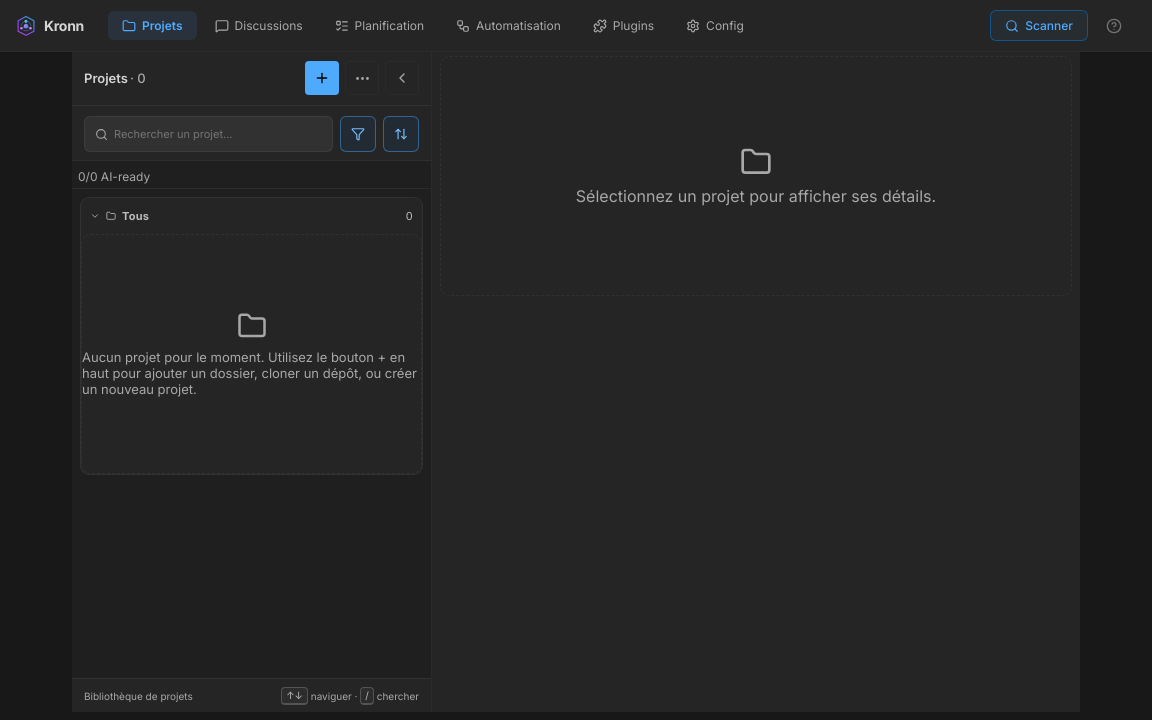
Test: Dashboard — Ctrl+Enter keyboard shortcuts › bootstrap and clone forms open via new project button
Click the button named "Ajouter un projet" at x=322, y=78, box [305,61,339,95]
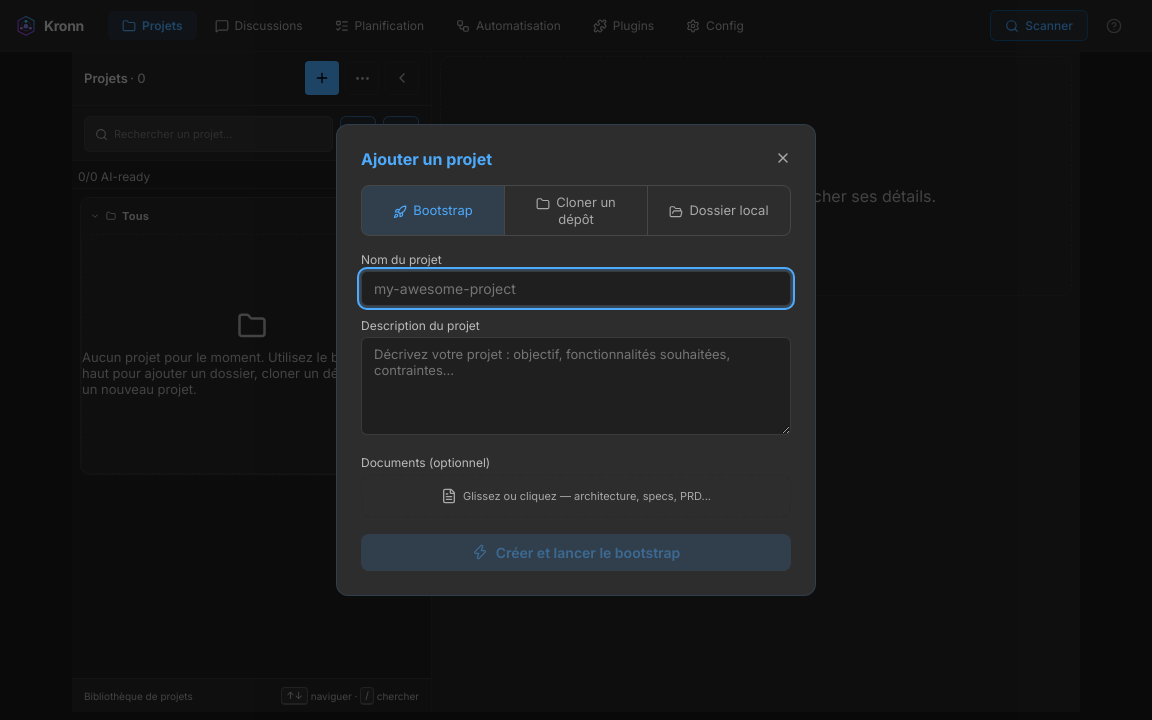
Expected: the text "Bootstrap" is shown, [362,186,504,235]
Expected: the field labelled "Nom du projet" is shown, [361,271,791,306]
Expected: the text box labelled "Description du projet" is shown, [361,337,791,435]
